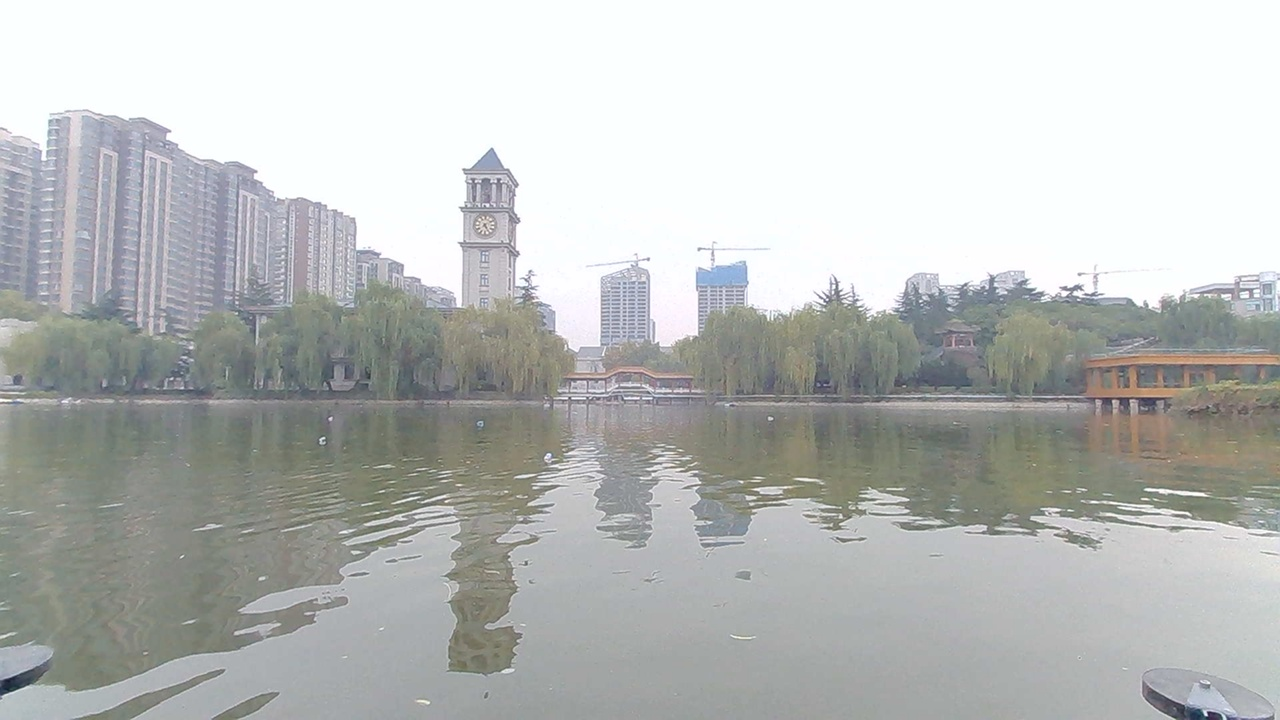bottle: (523, 441, 583, 474), (456, 407, 507, 440), (310, 429, 351, 452), (747, 410, 786, 433), (316, 400, 352, 424)
